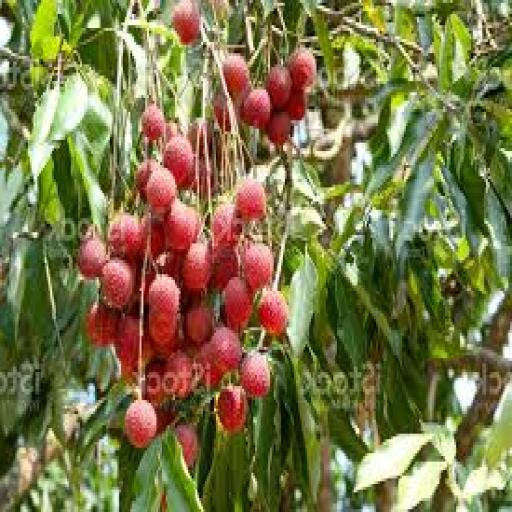lychee: (165, 202, 198, 251), (100, 258, 133, 307), (209, 324, 240, 375), (223, 277, 252, 330), (147, 274, 179, 322), (163, 135, 192, 187), (166, 350, 194, 403), (108, 216, 143, 258), (124, 401, 155, 447), (215, 387, 246, 433), (85, 303, 118, 346), (145, 168, 175, 215), (242, 244, 272, 290), (182, 244, 211, 290), (258, 291, 287, 335), (171, 0, 200, 44), (240, 353, 268, 397), (240, 87, 270, 128), (184, 303, 213, 344), (212, 205, 241, 246), (236, 180, 265, 221), (221, 54, 248, 97), (288, 48, 315, 89), (266, 65, 291, 109), (76, 238, 104, 277), (175, 423, 198, 467), (141, 104, 164, 142), (266, 112, 289, 145)
